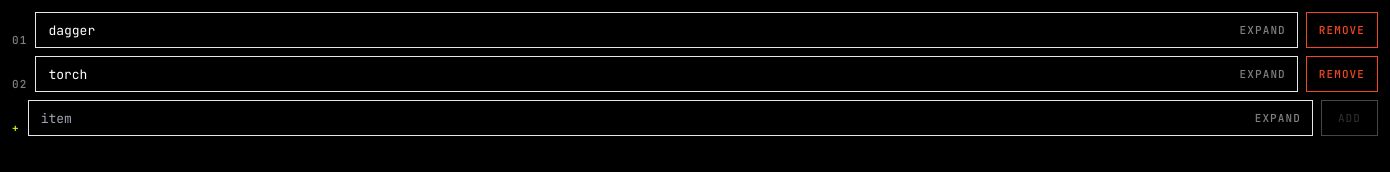
StringListEditor › removes an emptied item on blur instead of merging text
This screenshot has width=1390, height=172.
Clear the field named "dagger" at (667, 30), box [35,12,1298,48]
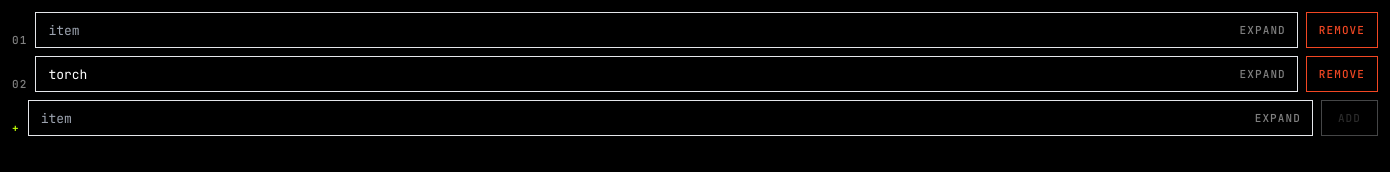
Leave the field with placeholder "item" next to "01", box [35,12,1298,48]
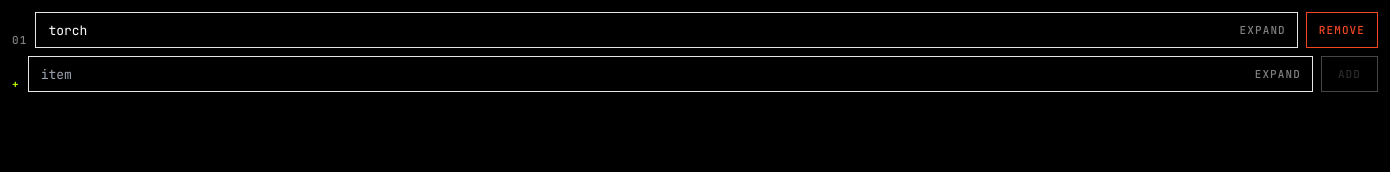
expect the field showing "dagger" is not shown: met
expect the field showing "torch" is shown: met, box [35,12,1298,48]
